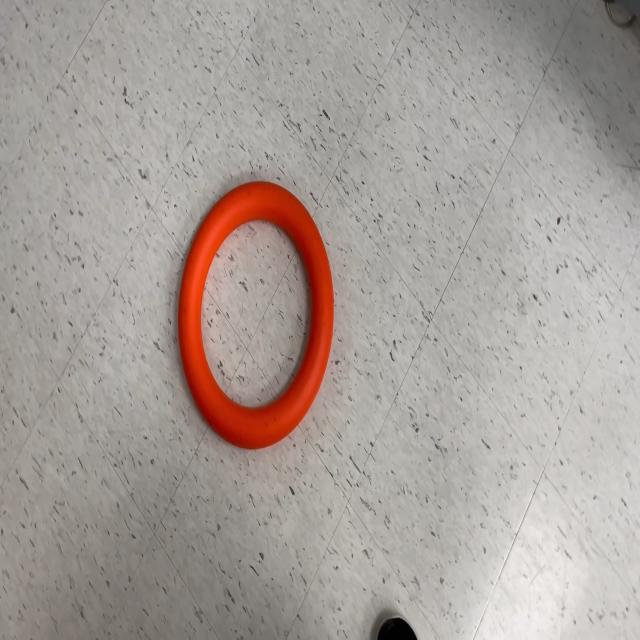note: (177, 180, 335, 448)
